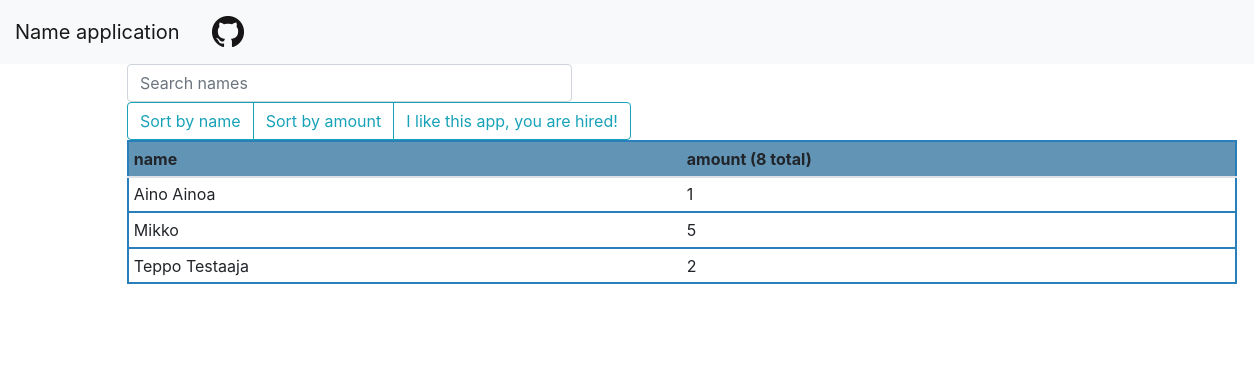
Test case: NameList › you are hired button updates Mikko
Check: the row "Mikko 5" is shown, box [128,212,1236,248]
Click the button "I like this app, you are hired!".
click(512, 121)  # box [393,102,631,140]
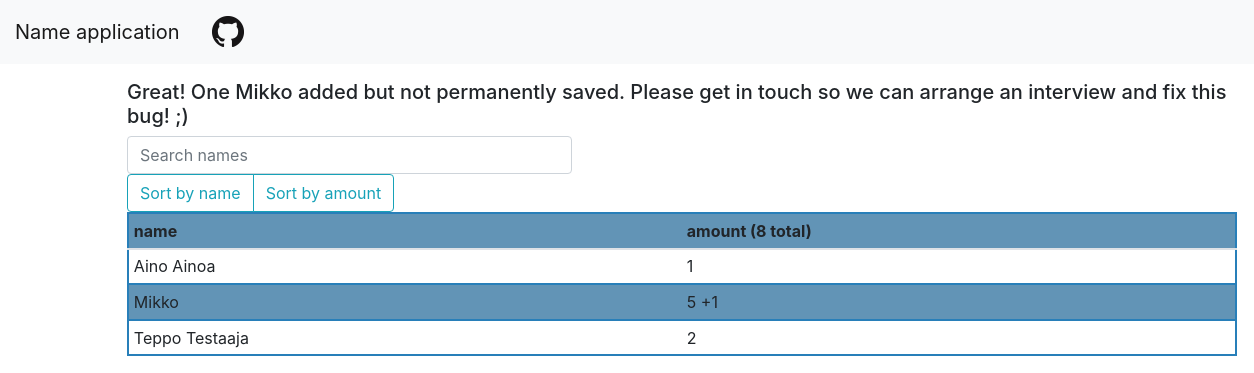
Check: the row "Mikko 5 +1" is shown, box [128,284,1236,320]
